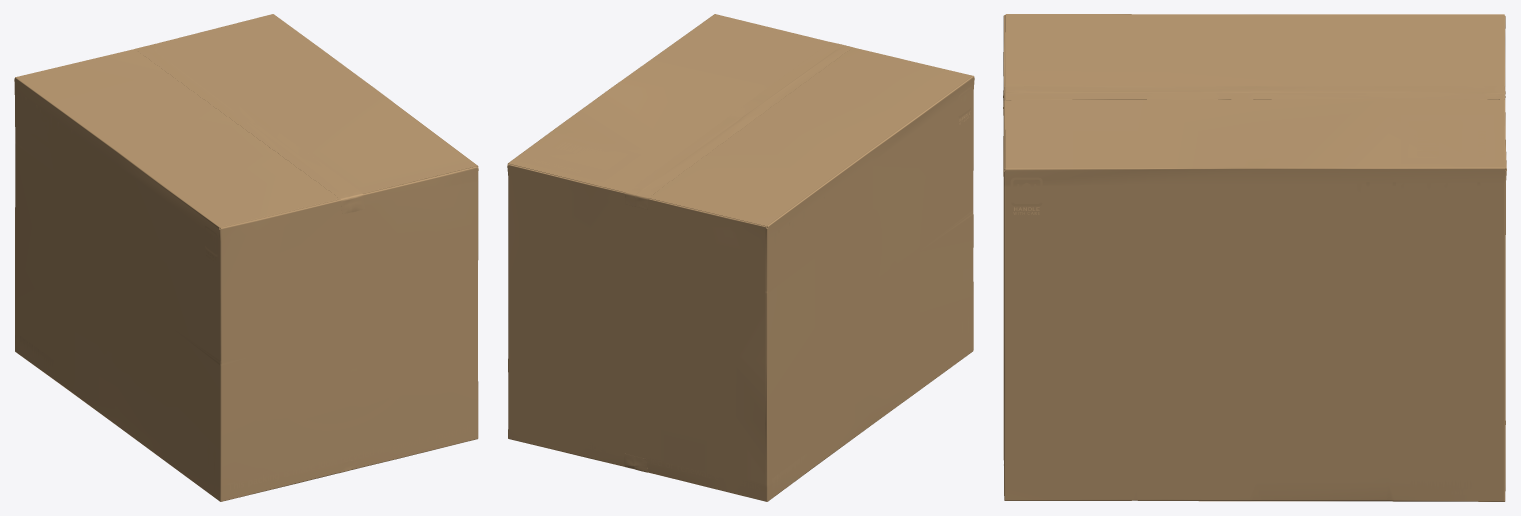
Rendered from box_corrugated_white_b22.glb.
3 views of the same model, side by side, from view 1: azimuth 30°, elevation 25°; view 2: azimuth 150°, elevation 25°; view 3: azimuth 270°, elevation 25° (orthographic). The views are drawn at different scales.
Bounding box in the file's own units: 0.3005 × 0.3046 × 0.4145.
